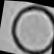no answer: (7, 0, 54, 54)
